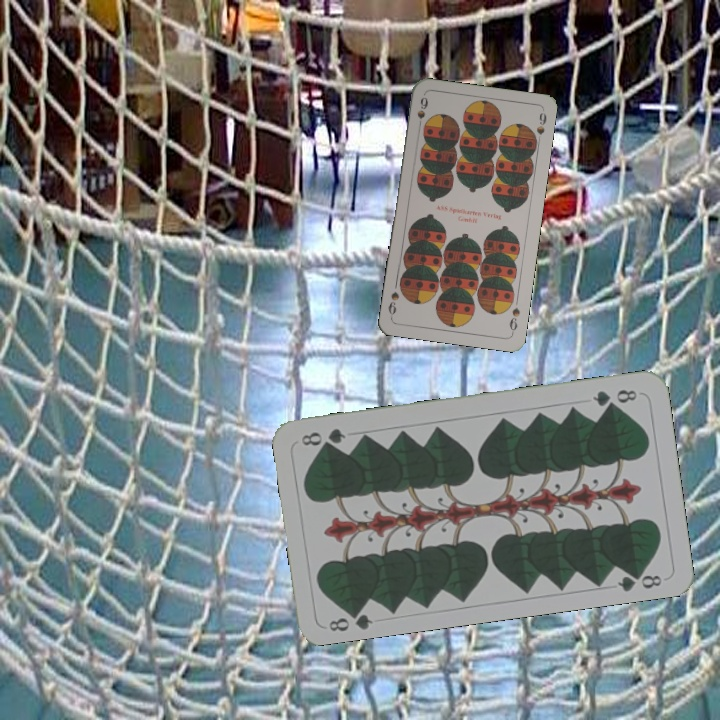G8: (325, 604, 375, 634), (588, 385, 640, 410)
S9: (413, 93, 430, 133), (505, 303, 523, 336)
